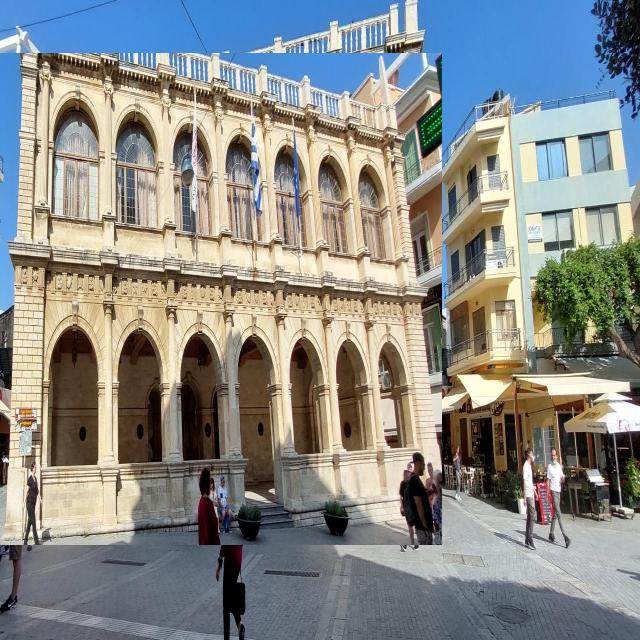Loggia: (1, 54, 443, 546)
